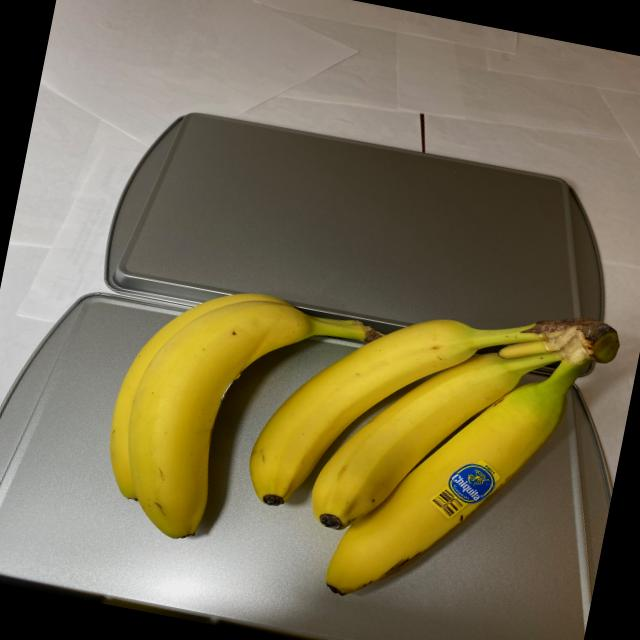banana: (80, 230, 629, 640)
